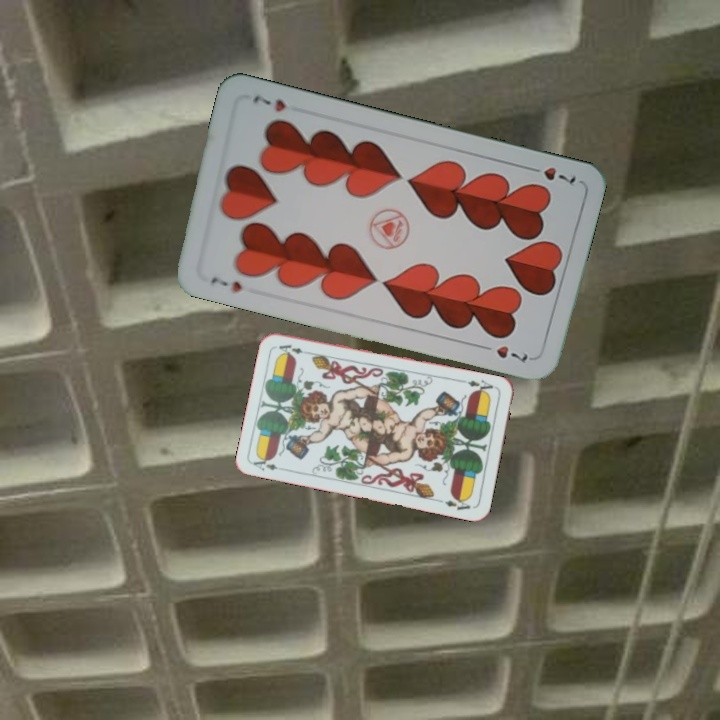EA: (249, 452, 289, 473), (464, 375, 499, 397)
H7: (523, 162, 579, 187), (207, 272, 245, 295)
